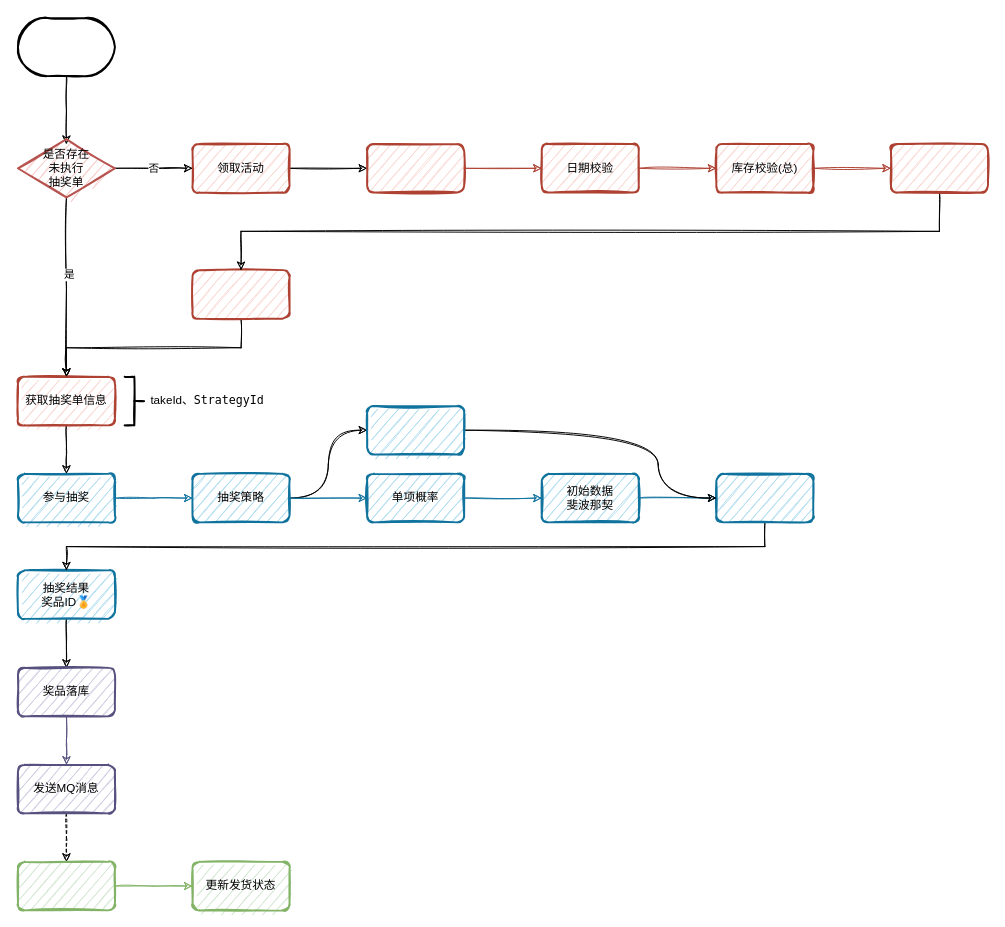
Some shapes in this 1005 by 927 pixel diagram are drawn without their labels. Each missing label, with the centre of its shape:
"参与次数" belongs at point 938,168.
"开始" belongs at point 65,46.
"总体概率" belongs at point 415,429.
"执行抽奖" belongs at point 764,497.
"状态校验" belongs at point 415,168.
"触发奖品发货" belongs at point 65,885.
"领取完成" belongs at point 240,294.
